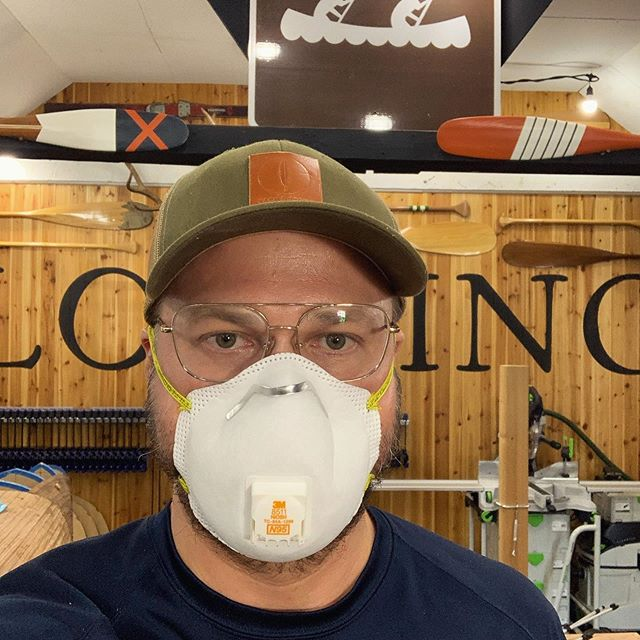n95: (158, 349, 396, 566)
